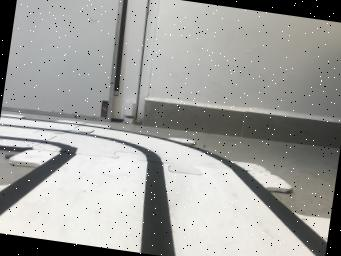street: (0, 117, 327, 256), (0, 117, 327, 256), (0, 117, 327, 256)
